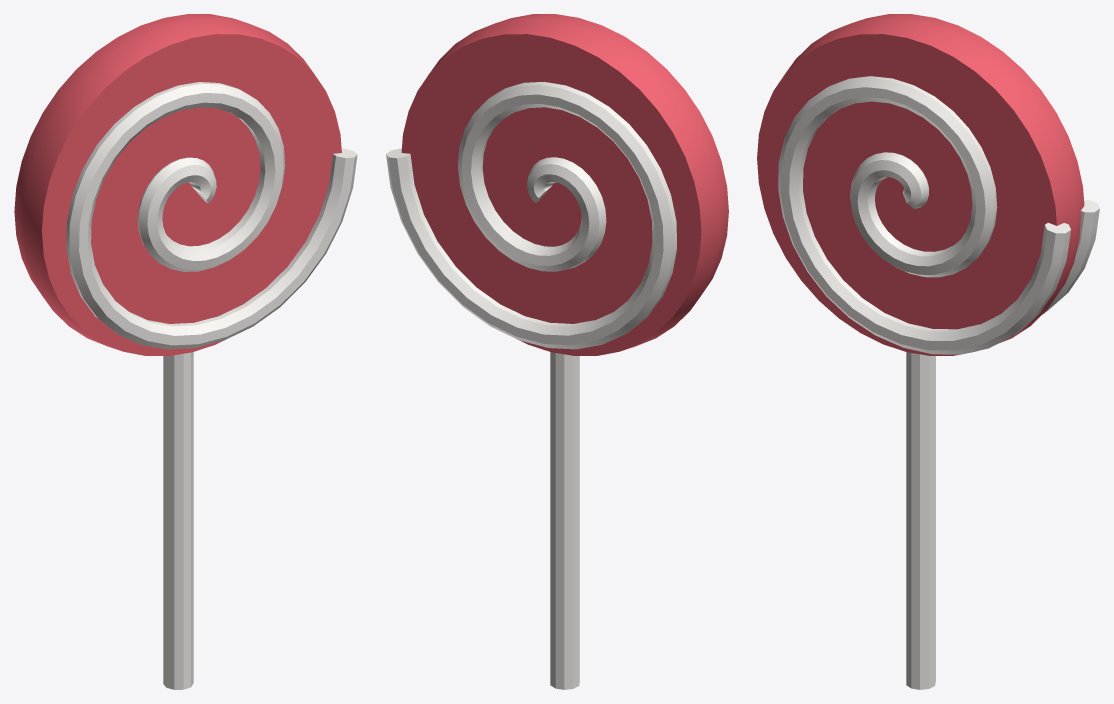
The model's file is Lollipop_Red.fbx.
3 views of the same model, side by side, from view 1: azimuth 30°, elevation 25°; view 2: azimuth 150°, elevation 25°; view 3: azimuth 330°, elevation 25° (orthographic).
Parts seen in each view (by area): view 1: Lollipop_Red; view 2: Lollipop_Red; view 3: Lollipop_Red.
Boxes of the visible parts, x1,y1,x2,y2 form: Lollipop_Red: (14,14,357,689); Lollipop_Red: (386,14,728,689); Lollipop_Red: (757,14,1099,689).
Bounding box in the file's own units: 5.32 × 10.6 × 1.23.
